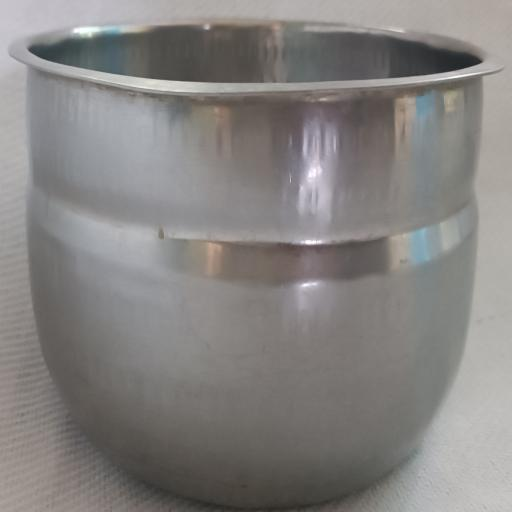vessel: (11, 21, 500, 507)
